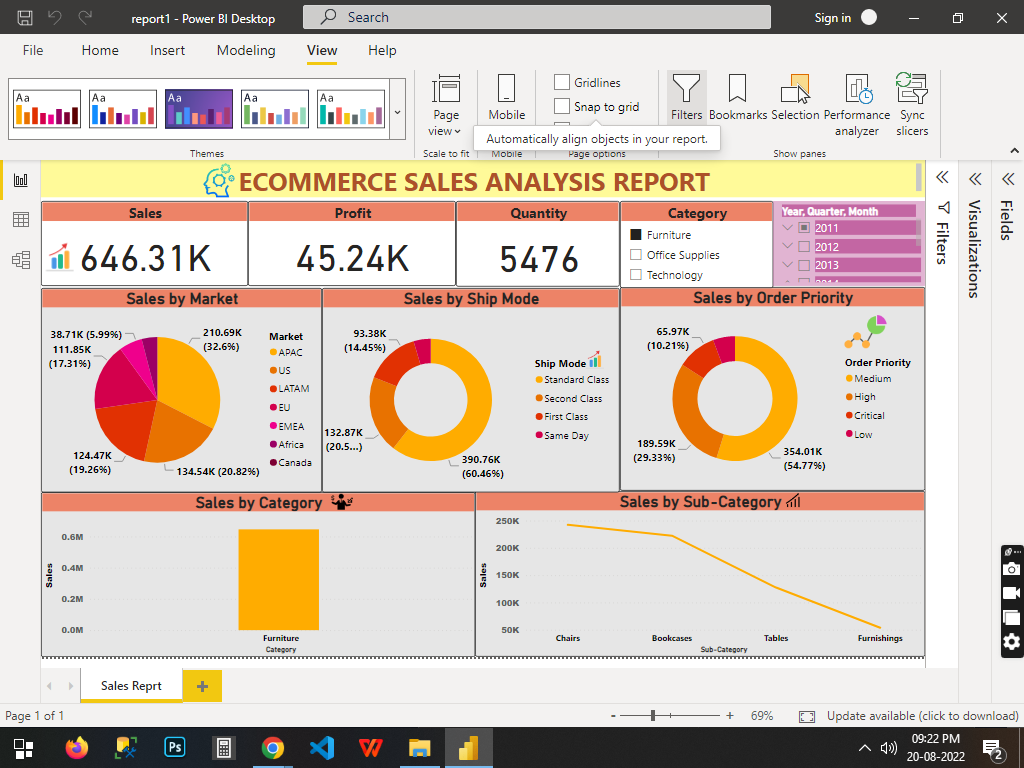

The page's visual inventory and layout, read from the dashboard file:
{"tool":"powerbi","page":{"name":"Sales Reprt","canvas":[1280,720],"ordinal":0},"visuals":[{"type":"columnChart","fields":{"Category":["Orders.Category"],"Y":["Sum(Orders.Sales)"]},"box":[0,481.1,629.1,239.5],"z":0},{"type":"lineChart","fields":{"Category":["Orders.Sub-Category"],"Y":["Sum(Orders.Sales)"]},"box":[628.4,479.3,651.6,240.4],"z":1000},{"type":"pieChart","fields":{"Category":["Orders.Market"],"Y":["Sum(Orders.Sales)"]},"box":[0,185,407.1,296.1],"z":2000},{"type":"donutChart","fields":{"Category":["Orders.Ship Mode"],"Y":["Sum(Orders.Sales)"]},"box":[407.1,185,431,296.1],"z":3000},{"type":"donutChart","fields":{"Y":["Sum(Orders.Sales)"],"Category":["Orders.Order Priority"]},"box":[838.4,183.9,441.6,295.4],"z":4000},{"type":"card","title":"Sales","fields":{"Values":["Sum(Orders.Sales)"]},"box":[0,59.4,299.7,123.1],"z":5000},{"type":"card","title":"Profit","fields":{"Values":["Sum(Orders.Profit)"]},"box":[299.7,59.4,301.2,123.1],"z":6000},{"type":"card","title":"Quantity","fields":{"Values":["Sum(Orders.Quantity)"]},"box":[600.8,58.8,237.3,124.1],"z":7000},{"type":"slicer","title":"Category","fields":{"Values":["Orders.Category"]},"box":[838.1,58.8,222,126.3],"z":8000},{"type":"slicer","fields":{"Values":["Orders.Order Date.Variation.Date Hierarchy.Year","Orders.Order Date.Variation.Date Hierarchy.Quarter","Orders.Order Date.Variation.Date Hierarchy.Month"]},"box":[1059.9,59.4,220.1,123.1],"z":9000},{"type":"textbox","box":[0,0,1280,53.9],"z":10000},{"type":"image","box":[1039.6,474.9,98.5,36.2],"z":11000},{"type":"image","box":[415.6,476.4,40.5,36.2],"z":12000},{"type":"image","box":[732.7,269.3,137.6,39.1],"z":13000},{"type":"image","box":[0,110,55,60.8],"z":14000},{"type":"image","box":[1158.4,214.3,72.4,75.3],"z":15000},{"type":"image","box":[227.3,0,60.8,59.4],"z":16000}]}

Visuals, with their boxes on the page's 1280x720 design canvas (x1, y1, x2, y2). These are canvas units, not pixel positions in the 1024x768 screenshot, which may show the page scaled, cropped or inside an application window:
columnChart - Orders.Category x Sum(Orders.Sales): <region>0, 481, 629, 721</region>
lineChart - Orders.Sub-Category x Sum(Orders.Sales): <region>628, 479, 1280, 720</region>
pieChart - Orders.Market x Sum(Orders.Sales): <region>0, 185, 407, 481</region>
donutChart - Orders.Ship Mode x Sum(Orders.Sales): <region>407, 185, 838, 481</region>
donutChart - Sum(Orders.Sales) x Orders.Order Priority: <region>838, 184, 1280, 479</region>
"Sales" card: <region>0, 59, 300, 182</region>
"Profit" card: <region>300, 59, 601, 182</region>
"Quantity" card: <region>601, 59, 838, 183</region>
"Category" slicer: <region>838, 59, 1060, 185</region>
slicer - Orders.Order Date.Variation.Date Hierarchy.Year x Orders.Order Date.Variation.Date Hierarchy.Quarter: <region>1060, 59, 1280, 182</region>
textbox: <region>0, 0, 1280, 54</region>
image: <region>1040, 475, 1138, 511</region>
image: <region>416, 476, 456, 513</region>
image: <region>733, 269, 870, 308</region>
image: <region>0, 110, 55, 171</region>
image: <region>1158, 214, 1231, 290</region>
image: <region>227, 0, 288, 59</region>
